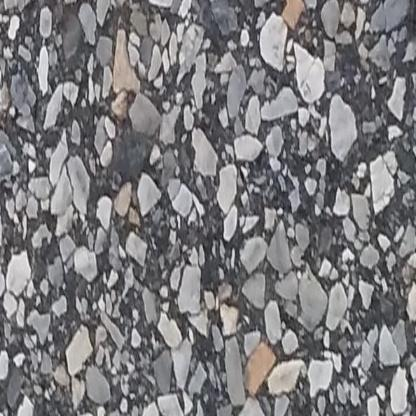Cracks: (407, 0, 416, 129)
